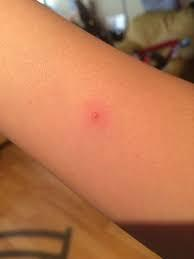Spider: (88, 109, 104, 127)
